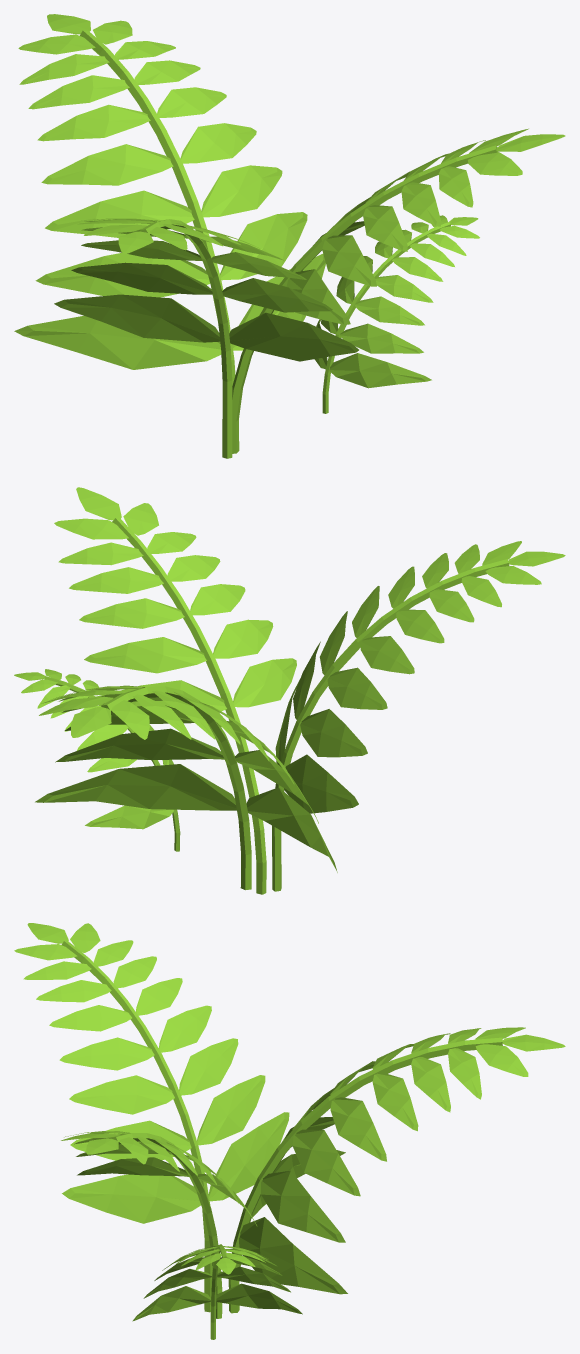
Rendered from Paproc_B.FBX.
The picture shows the model from 3 angles, top to bottom: view 1: azimuth 30°, elevation 25°; view 2: azimuth 150°, elevation 25°; view 3: azimuth 270°, elevation 25°; orthographic projection. The views are drawn at different scales.
Visible parts, largest first — view 1: Paproc_B; view 2: Paproc_B; view 3: Paproc_B.
Part boxes in pixels (x1,y1,x2,y2): Paproc_B: (14,14,565,458); Paproc_B: (14,487,565,894); Paproc_B: (14,923,565,1339).
Size of the model in its own units: 1424 by 923 by 1541.
